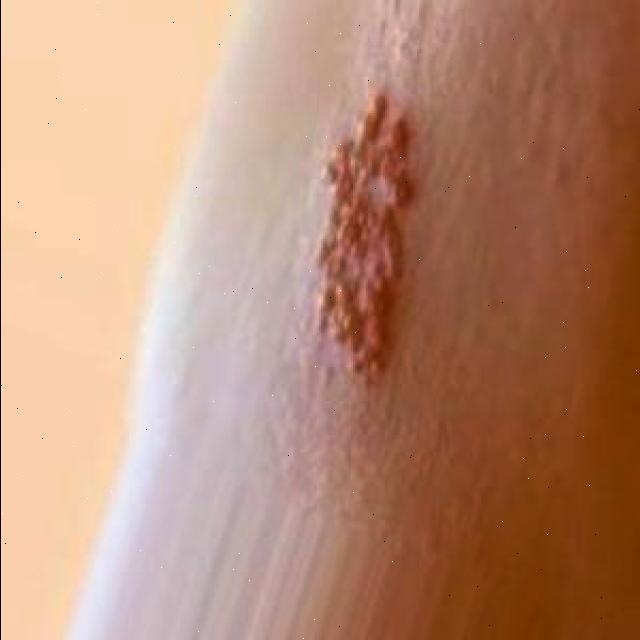Shingles: (313, 84, 420, 384)
